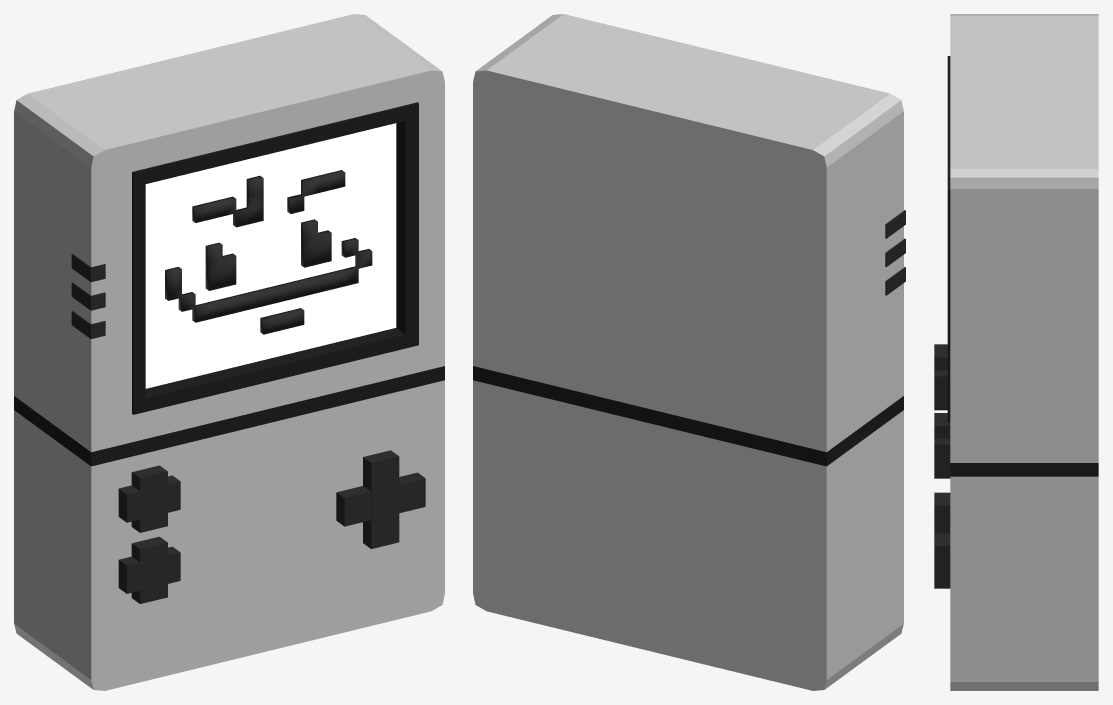
Rendered from MetaBoy_3173_test1.glb.
3 views of the same model, side by side, from view 1: azimuth 30°, elevation 25°; view 2: azimuth 150°, elevation 25°; view 3: azimuth 270°, elevation 25° (orthographic). The views are drawn at different scales.
Visible parts, largest first — view 1: metaboy_default_detail_rounded; view 2: metaboy_default_detail_rounded; view 3: metaboy_default_detail_rounded.
Boxes of the visible parts, x1=… form: metaboy_default_detail_rounded: x1=14, y1=14, x2=444, y2=690; metaboy_default_detail_rounded: x1=473, y1=14, x2=905, y2=690; metaboy_default_detail_rounded: x1=934, y1=14, x2=1098, y2=690.
Size of the model in its own units: 2.61 by 3.8 by 1.09.
Materials: 5 (1 with a texture image).
